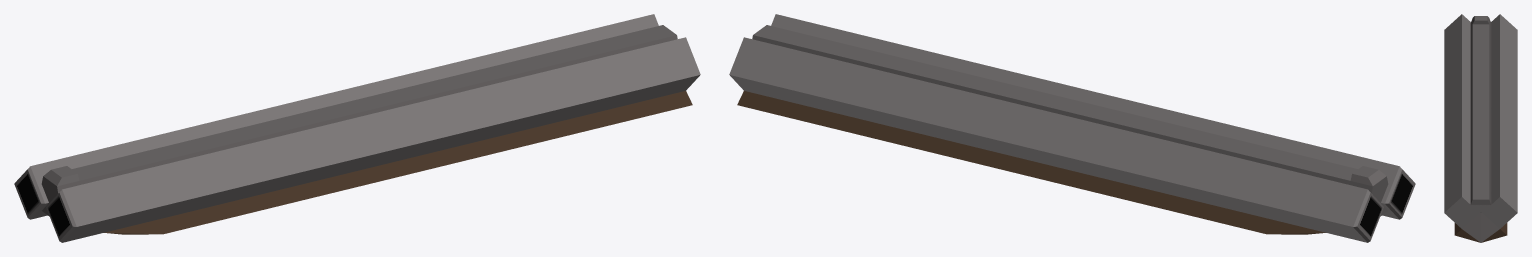
The model's file is supershotgun.fbx.
3 renders of one model, left to right at view 1: azimuth 30°, elevation 25°; view 2: azimuth 150°, elevation 25°; view 3: azimuth 270°, elevation 25°, orthographic. The views are drawn at different scales.
Parts seen in each view (by area): view 1: Cube; view 2: Cube; view 3: Cube.
Boxes of the visible parts, x1=… form: Cube: x1=14, y1=14, x2=700, y2=242; Cube: x1=729, y1=14, x2=1415, y2=242; Cube: x1=1444, y1=14, x2=1517, y2=242.
Size of the model in its own units: 4192 by 497 by 709.
